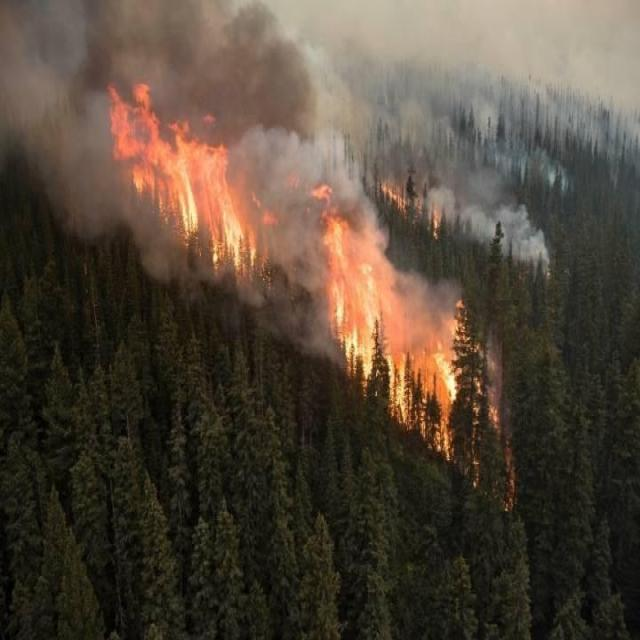Fire: (308, 182, 516, 514), (107, 81, 280, 288)
Smoke: (1, 1, 639, 404)
